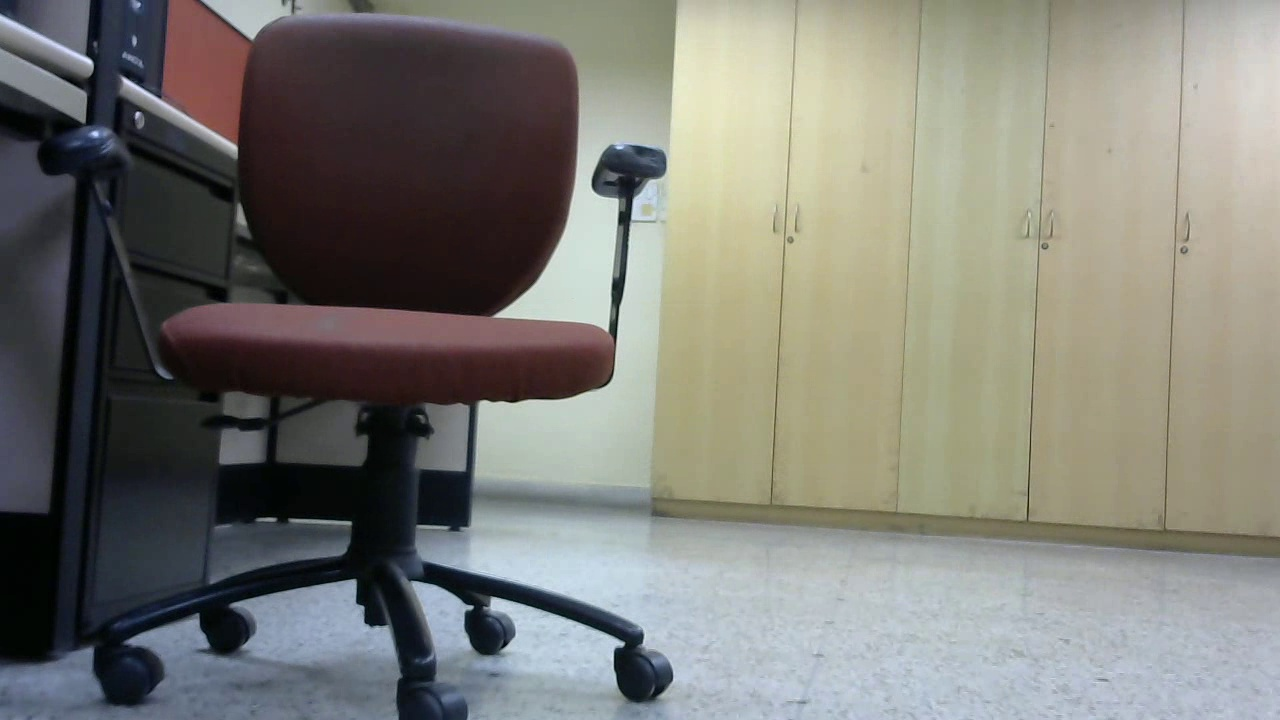chair: (35, 13, 677, 720)
